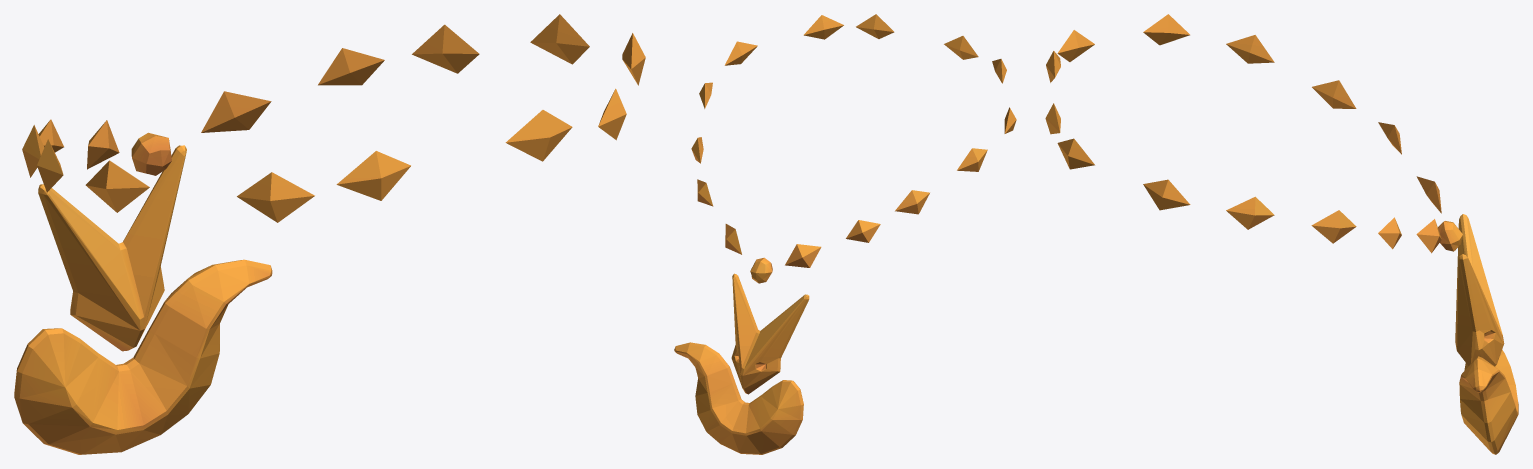
Rendered from CharSkyKid_Neck_AP11Pendant.glb.
3 renders of one model, left to right at view 1: azimuth 30°, elevation 25°; view 2: azimuth 150°, elevation 25°; view 3: azimuth 270°, elevation 25°, orthographic. The views are drawn at different scales.
Parts seen in each view (by area): view 1: CharSkyKid_Neck_AP11Pendant; view 2: CharSkyKid_Neck_AP11Pendant; view 3: CharSkyKid_Neck_AP11Pendant.
Boxes of the visible parts, x1,y1,x2,y2 form: CharSkyKid_Neck_AP11Pendant: (14, 14, 645, 454); CharSkyKid_Neck_AP11Pendant: (674, 14, 1016, 454); CharSkyKid_Neck_AP11Pendant: (1045, 14, 1518, 454).
Size of the model in its own units: 1.79 by 1.81 by 2.09.
1 material, 1 textured.
